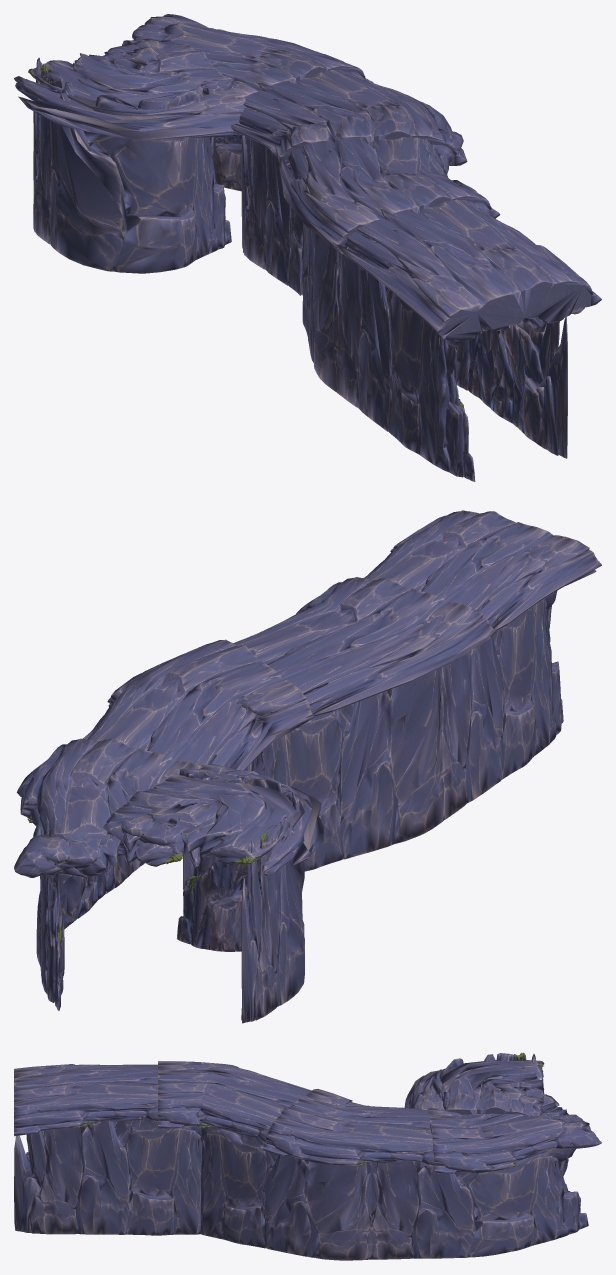
Rendered from crash-mine-shell.glb.
3 views of the same model, one above another, from view 1: azimuth 30°, elevation 25°; view 2: azimuth 150°, elevation 25°; view 3: azimuth 270°, elevation 25° (orthographic). The views are drawn at different scales.
Visible parts, largest first — view 1: Crash_mine_LOD0; view 2: Crash_mine_LOD0; view 3: Crash_mine_LOD0.
Boxes of the visible parts, x1,y1,x2,y2 form: Crash_mine_LOD0: (14,14,601,481); Crash_mine_LOD0: (14,510,601,1023); Crash_mine_LOD0: (14,1052,601,1260).
Size of what is drawn, in the model's own units: 54.04 by 34 by 131.
1 material, 1 textured.
